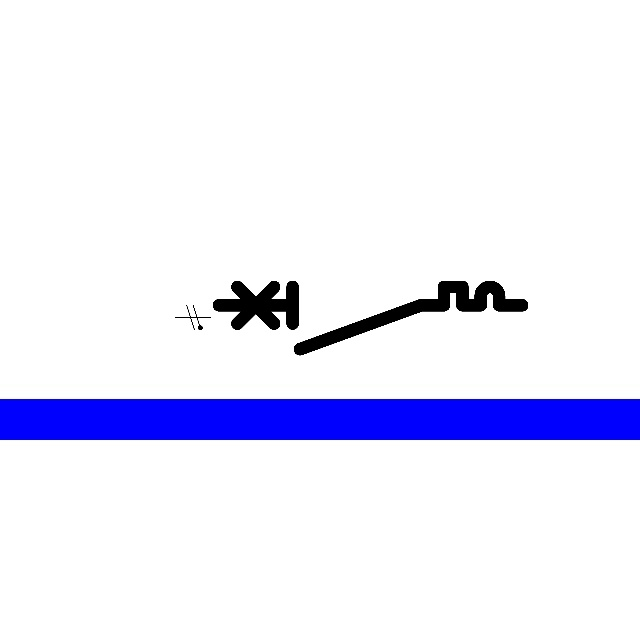interruptor_termomagnetico: (211, 279, 530, 357)
